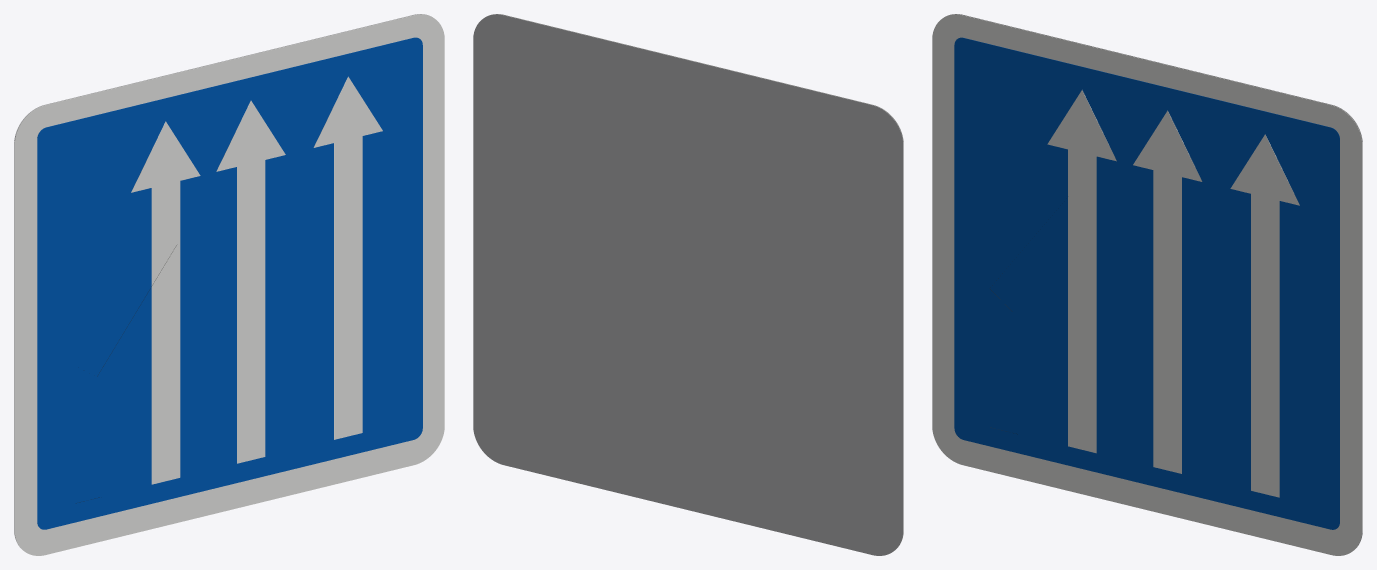
The picture shows the model from 3 angles, left to right: view 1: azimuth 30°, elevation 25°; view 2: azimuth 150°, elevation 25°; view 3: azimuth 330°, elevation 25°; orthographic projection.
Visible parts, largest first — view 1: C28_p01, C28_p00, C28_p04, C28_p02, C28_p03, C28_dos; view 2: C28_dos, C28_p00; view 3: C28_p01, C28_p00, C28_p03, C28_p02, C28_p04, C28_dos.
Boxes of the visible parts, <box> form: C28_p01: <box>37,37,422,529</box>; C28_p00: <box>14,14,444,555</box>; C28_p04: <box>131,121,200,484</box>; C28_p02: <box>313,76,382,439</box>; C28_p03: <box>216,100,285,463</box>; C28_dos: <box>14,14,431,547</box>; C28_dos: <box>473,14,903,555</box>; C28_p00: <box>486,14,903,547</box>; C28_p01: <box>954,37,1339,529</box>; C28_p00: <box>932,14,1362,555</box>; C28_p03: <box>1133,110,1202,473</box>; C28_p02: <box>1230,134,1299,497</box>; C28_p04: <box>1047,90,1116,453</box>; C28_dos: <box>945,14,1362,547</box>.
Size of the model in its own units: 0.7 by 0.6999 by 0.0043.
